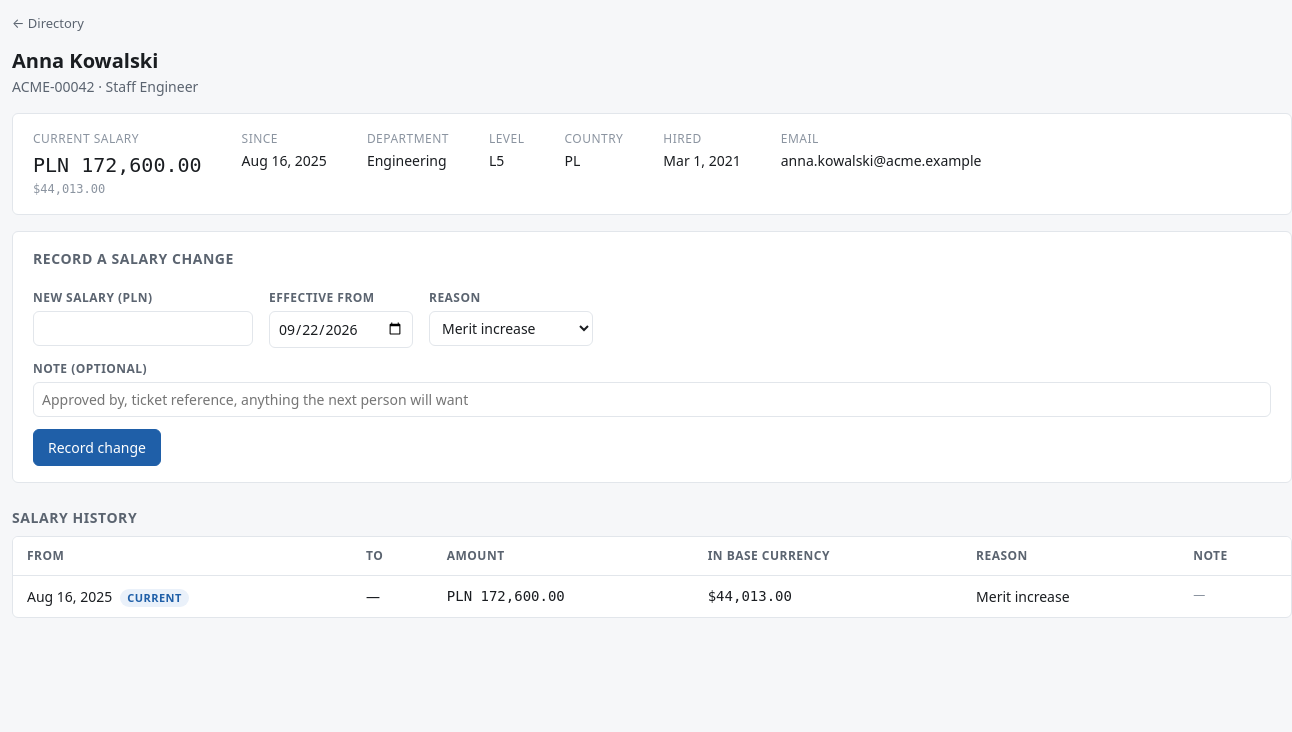
Test: recording a salary change › puts a rejection under the field the server blamed
Type "180000" into the field labelled "New salary (PLN)".
click(143, 328); type("180000")  # box [33,310,253,346]
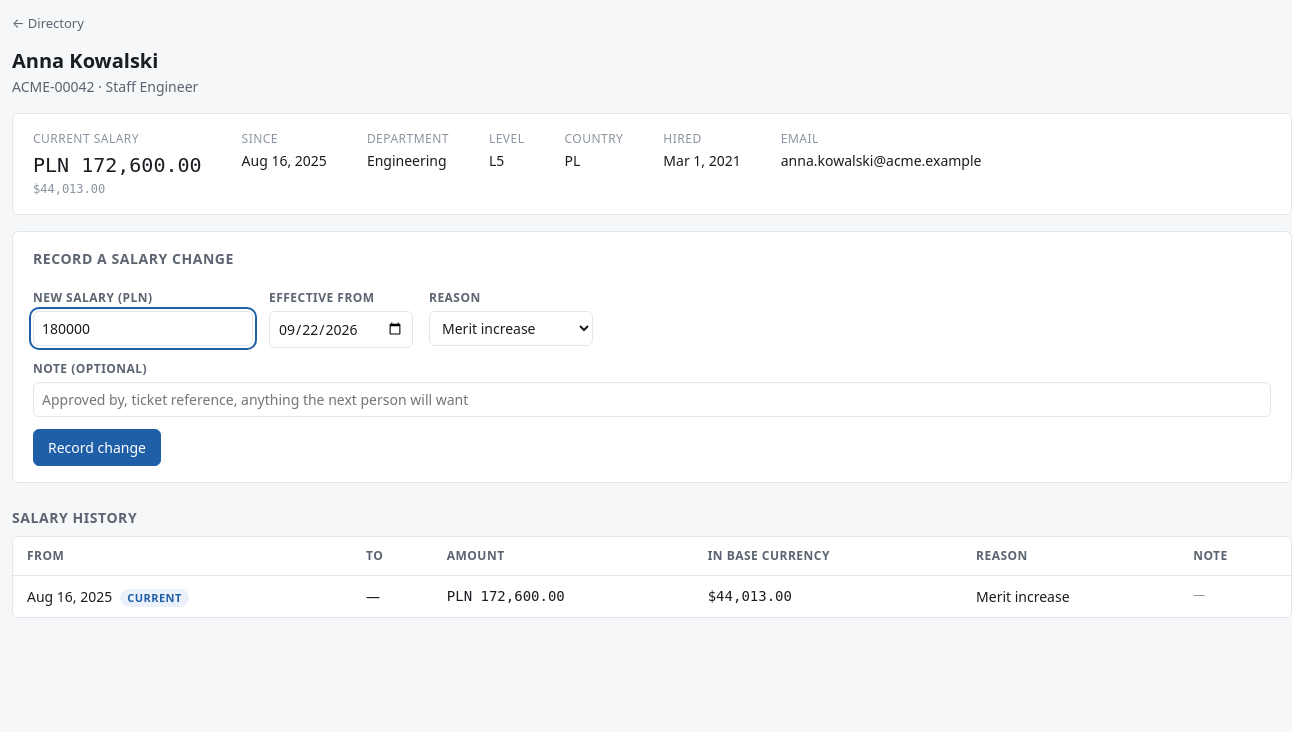
Click the button "Record change".
click(97, 447)  # box [33,428,161,466]
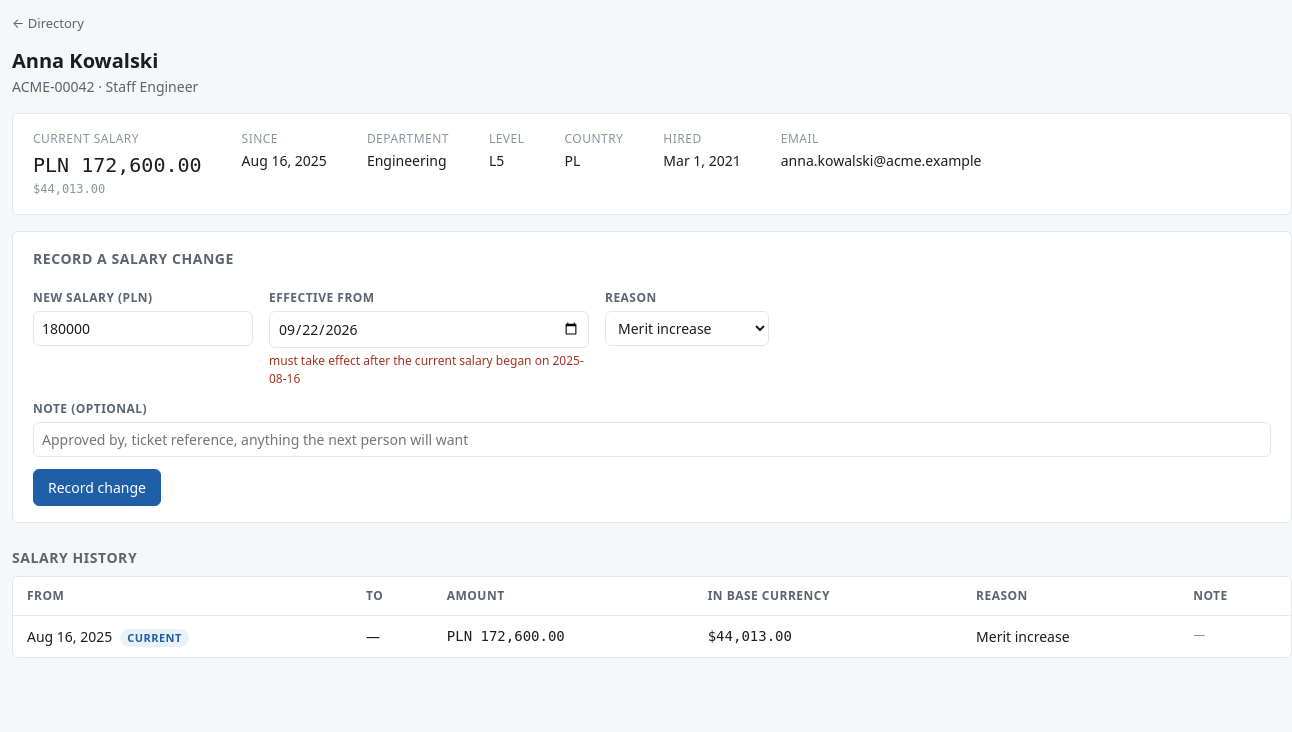
expect the text "must take effect after the current salary began on 2025-08-16" is shown: met, box [269,352,589,388]
